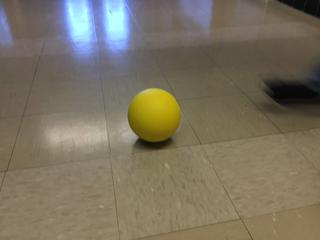power_cell: (127, 85, 185, 144)
